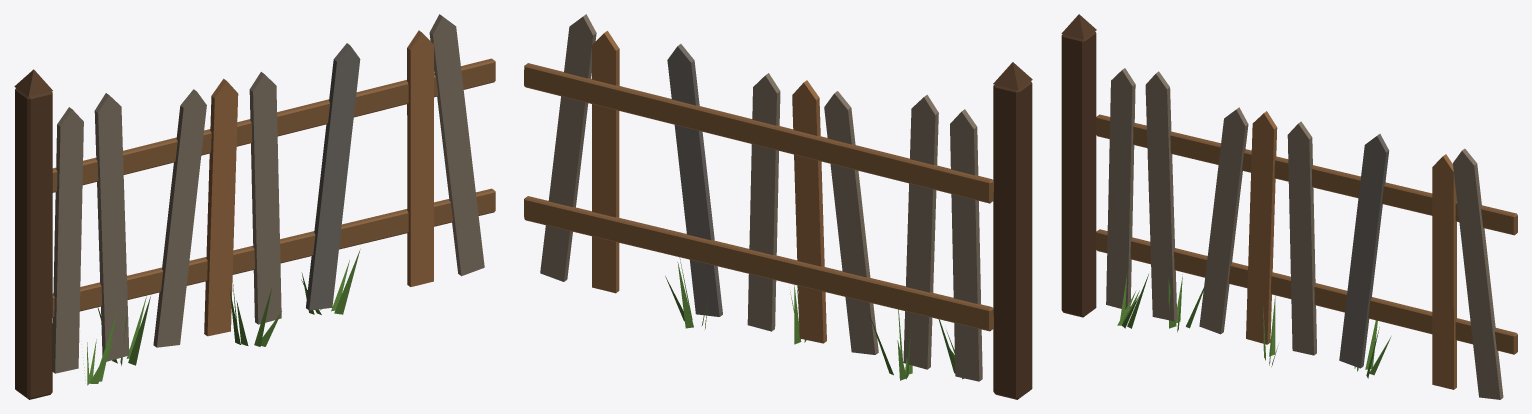
The model's file is WoodenFence.fbx.
3 views of the same model, side by side, from view 1: azimuth 30°, elevation 25°; view 2: azimuth 150°, elevation 25°; view 3: azimuth 330°, elevation 25° (orthographic). The views are drawn at different scales.
Visible parts, largest first — view 1: WoodenFence; view 2: WoodenFence; view 3: WoodenFence.
Part boxes in pixels (<box>): WoodenFence: <box>14,14,495,399</box>; WoodenFence: <box>524,14,1032,399</box>; WoodenFence: <box>1061,14,1517,399</box>.
Size of the model in its own units: 2.06 by 1.32 by 0.2734.
1 material, 1 textured.
